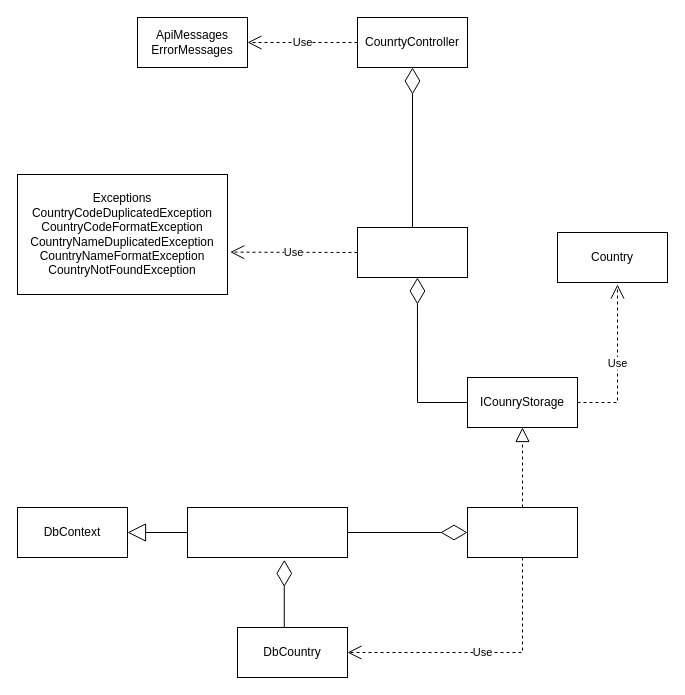
The diagram is 685 pixels wide and 695 high, and some of its shapes have lost their labels. Here are the shapes that lost their labels. From the top down, the centre of each, then its label:
the point at 412,252: CountryScenarios
the point at 267,532: ApplicationDbContext
the point at 522,532: CounrtyStorage
